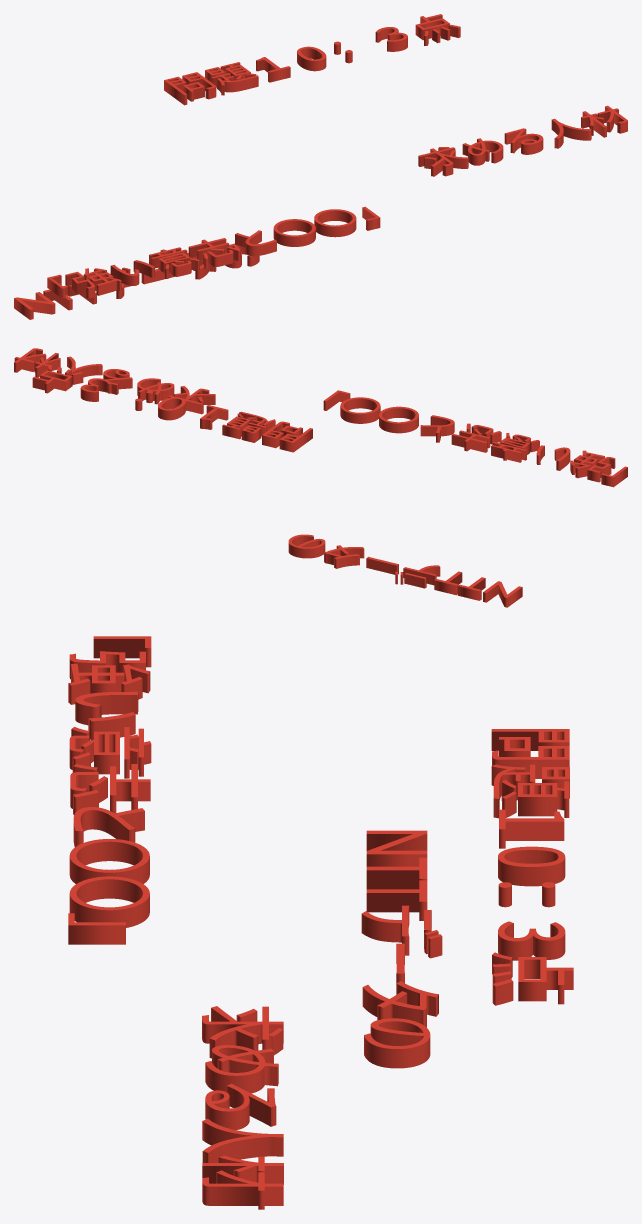
3 renders of one model, top to bottom at view 1: azimuth 30°, elevation 25°; view 2: azimuth 150°, elevation 25°; view 3: azimuth 270°, elevation 25°, orthographic. The views are drawn at different scales.
Visible parts, largest first — view 1: テキスト.002, テキスト.004, テキスト.005, テキスト.001; view 2: テキスト.002, テキスト.004, テキスト.001, テキスト.005; view 3: テキスト.002, テキスト.004, テキスト.005, テキスト.001.
Part boxes in pixels (bbox=[...]): テキスト.002: bbox=[47, 206, 380, 298]; テキスト.004: bbox=[164, 14, 460, 105]; テキスト.005: bbox=[418, 105, 627, 176]; テキスト.001: bbox=[14, 243, 259, 319]; テキスト.002: bbox=[323, 390, 627, 487]; テキスト.004: bbox=[32, 365, 312, 452]; テキスト.001: bbox=[288, 534, 522, 607]; テキスト.005: bbox=[14, 348, 215, 414]; テキスト.002: bbox=[68, 636, 151, 944]; テキスト.004: bbox=[491, 729, 573, 1005]; テキスト.005: bbox=[202, 1006, 283, 1209]; テキスト.001: bbox=[361, 830, 442, 1068].
Size of the model in its own units: 14.83 by 3.66 by 5.69.
